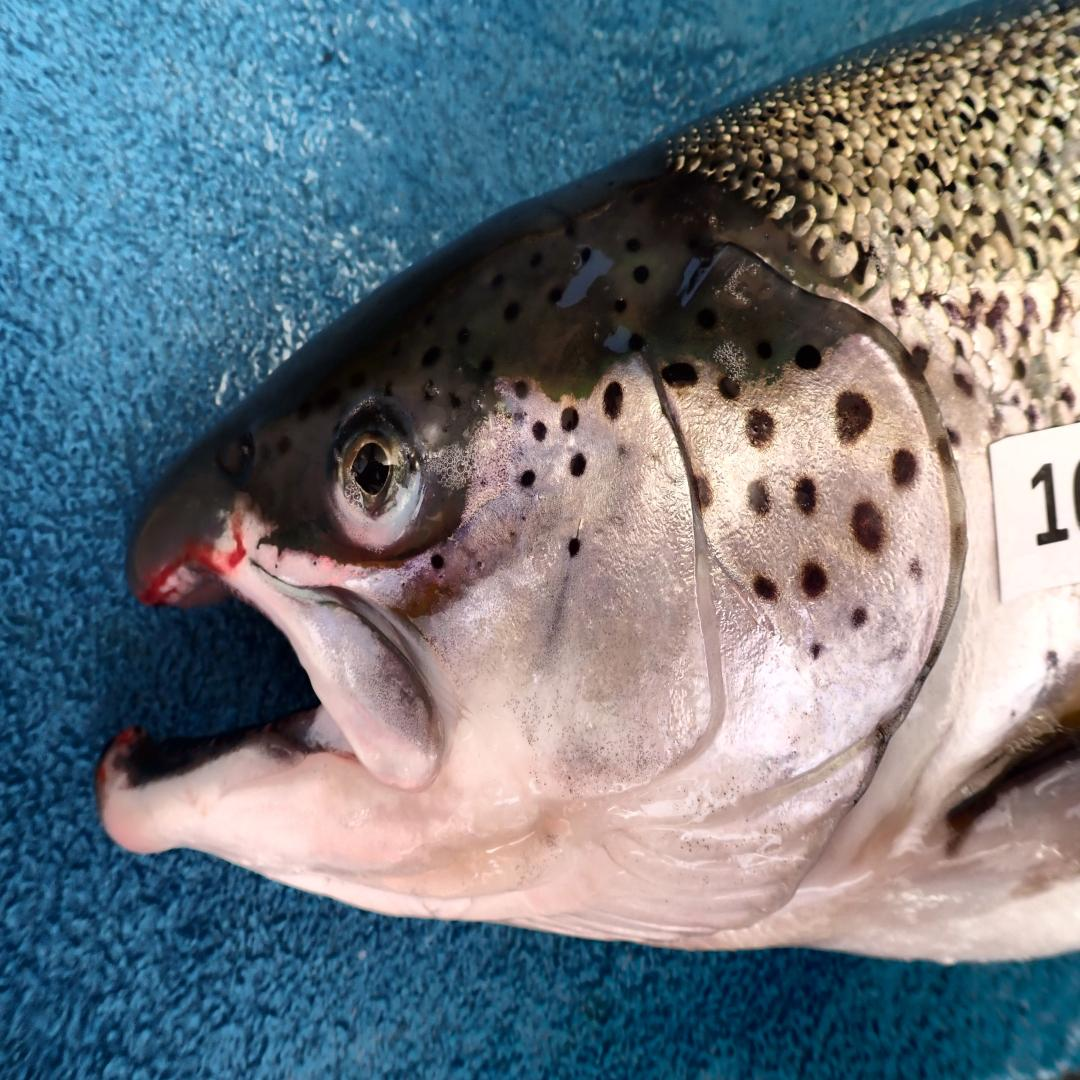spot: (835, 391, 873, 442), (852, 501, 884, 551), (747, 408, 774, 444), (892, 450, 918, 487), (802, 562, 827, 596), (662, 363, 698, 385), (795, 478, 816, 515), (692, 472, 713, 509), (749, 481, 770, 515), (603, 382, 622, 419), (753, 574, 778, 602), (795, 346, 821, 371), (717, 377, 740, 399), (510, 408, 532, 428), (561, 408, 578, 430), (570, 453, 586, 475), (629, 333, 645, 352), (909, 557, 922, 579), (852, 608, 867, 627), (532, 422, 546, 442), (757, 341, 772, 359), (515, 380, 529, 399), (567, 537, 580, 557), (810, 641, 823, 661), (521, 470, 536, 487), (430, 554, 445, 568), (616, 444, 629, 458), (475, 557, 485, 574), (508, 529, 517, 540), (521, 515, 527, 523)
